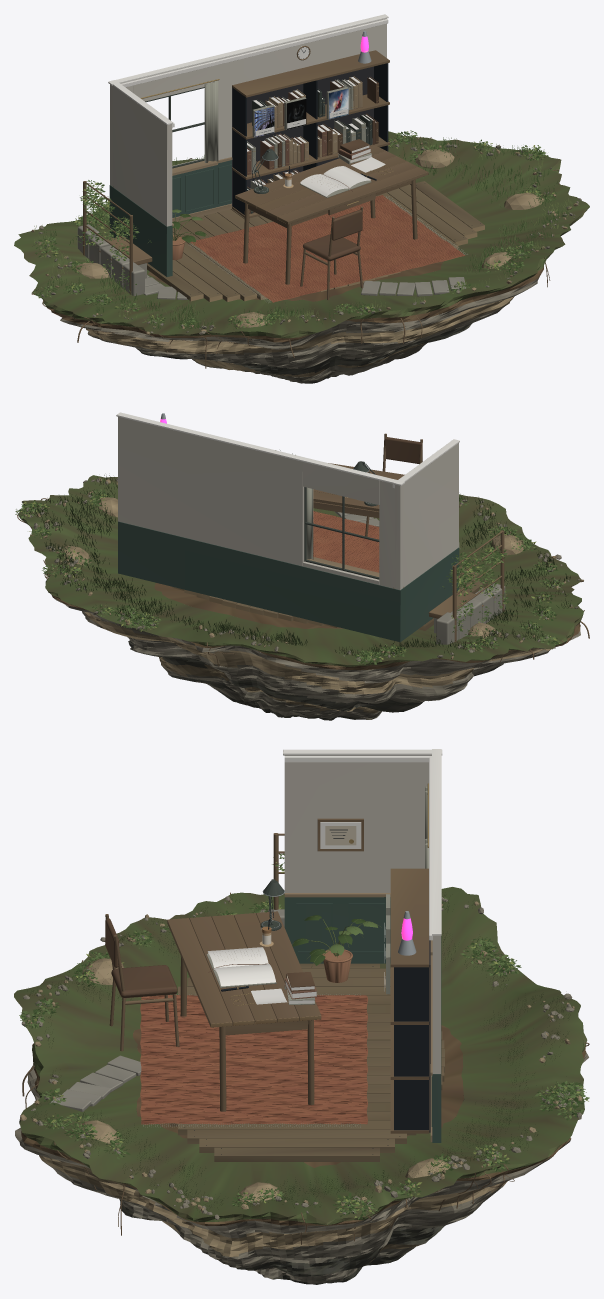
The model's file is orbit-writing-d5fa9453.glb.
3 views of the same model, one above another, from view 1: azimuth 30°, elevation 25°; view 2: azimuth 150°, elevation 25°; view 3: azimuth 270°, elevation 25° (orthographic). The views are drawn at different scales.
Parts seen in each view (by area): view 1: Writing island · browser materials; view 2: Writing island · browser materials; view 3: Writing island · browser materials.
Part boxes in pixels (x1,y1,x2,y2): Writing island · browser materials: (14, 14, 589, 383); Writing island · browser materials: (15, 412, 589, 720); Writing island · browser materials: (14, 749, 589, 1284).
Size of the model in its own units: 11.74 by 6.45 by 8.17.
40 materials, 3 textured.
